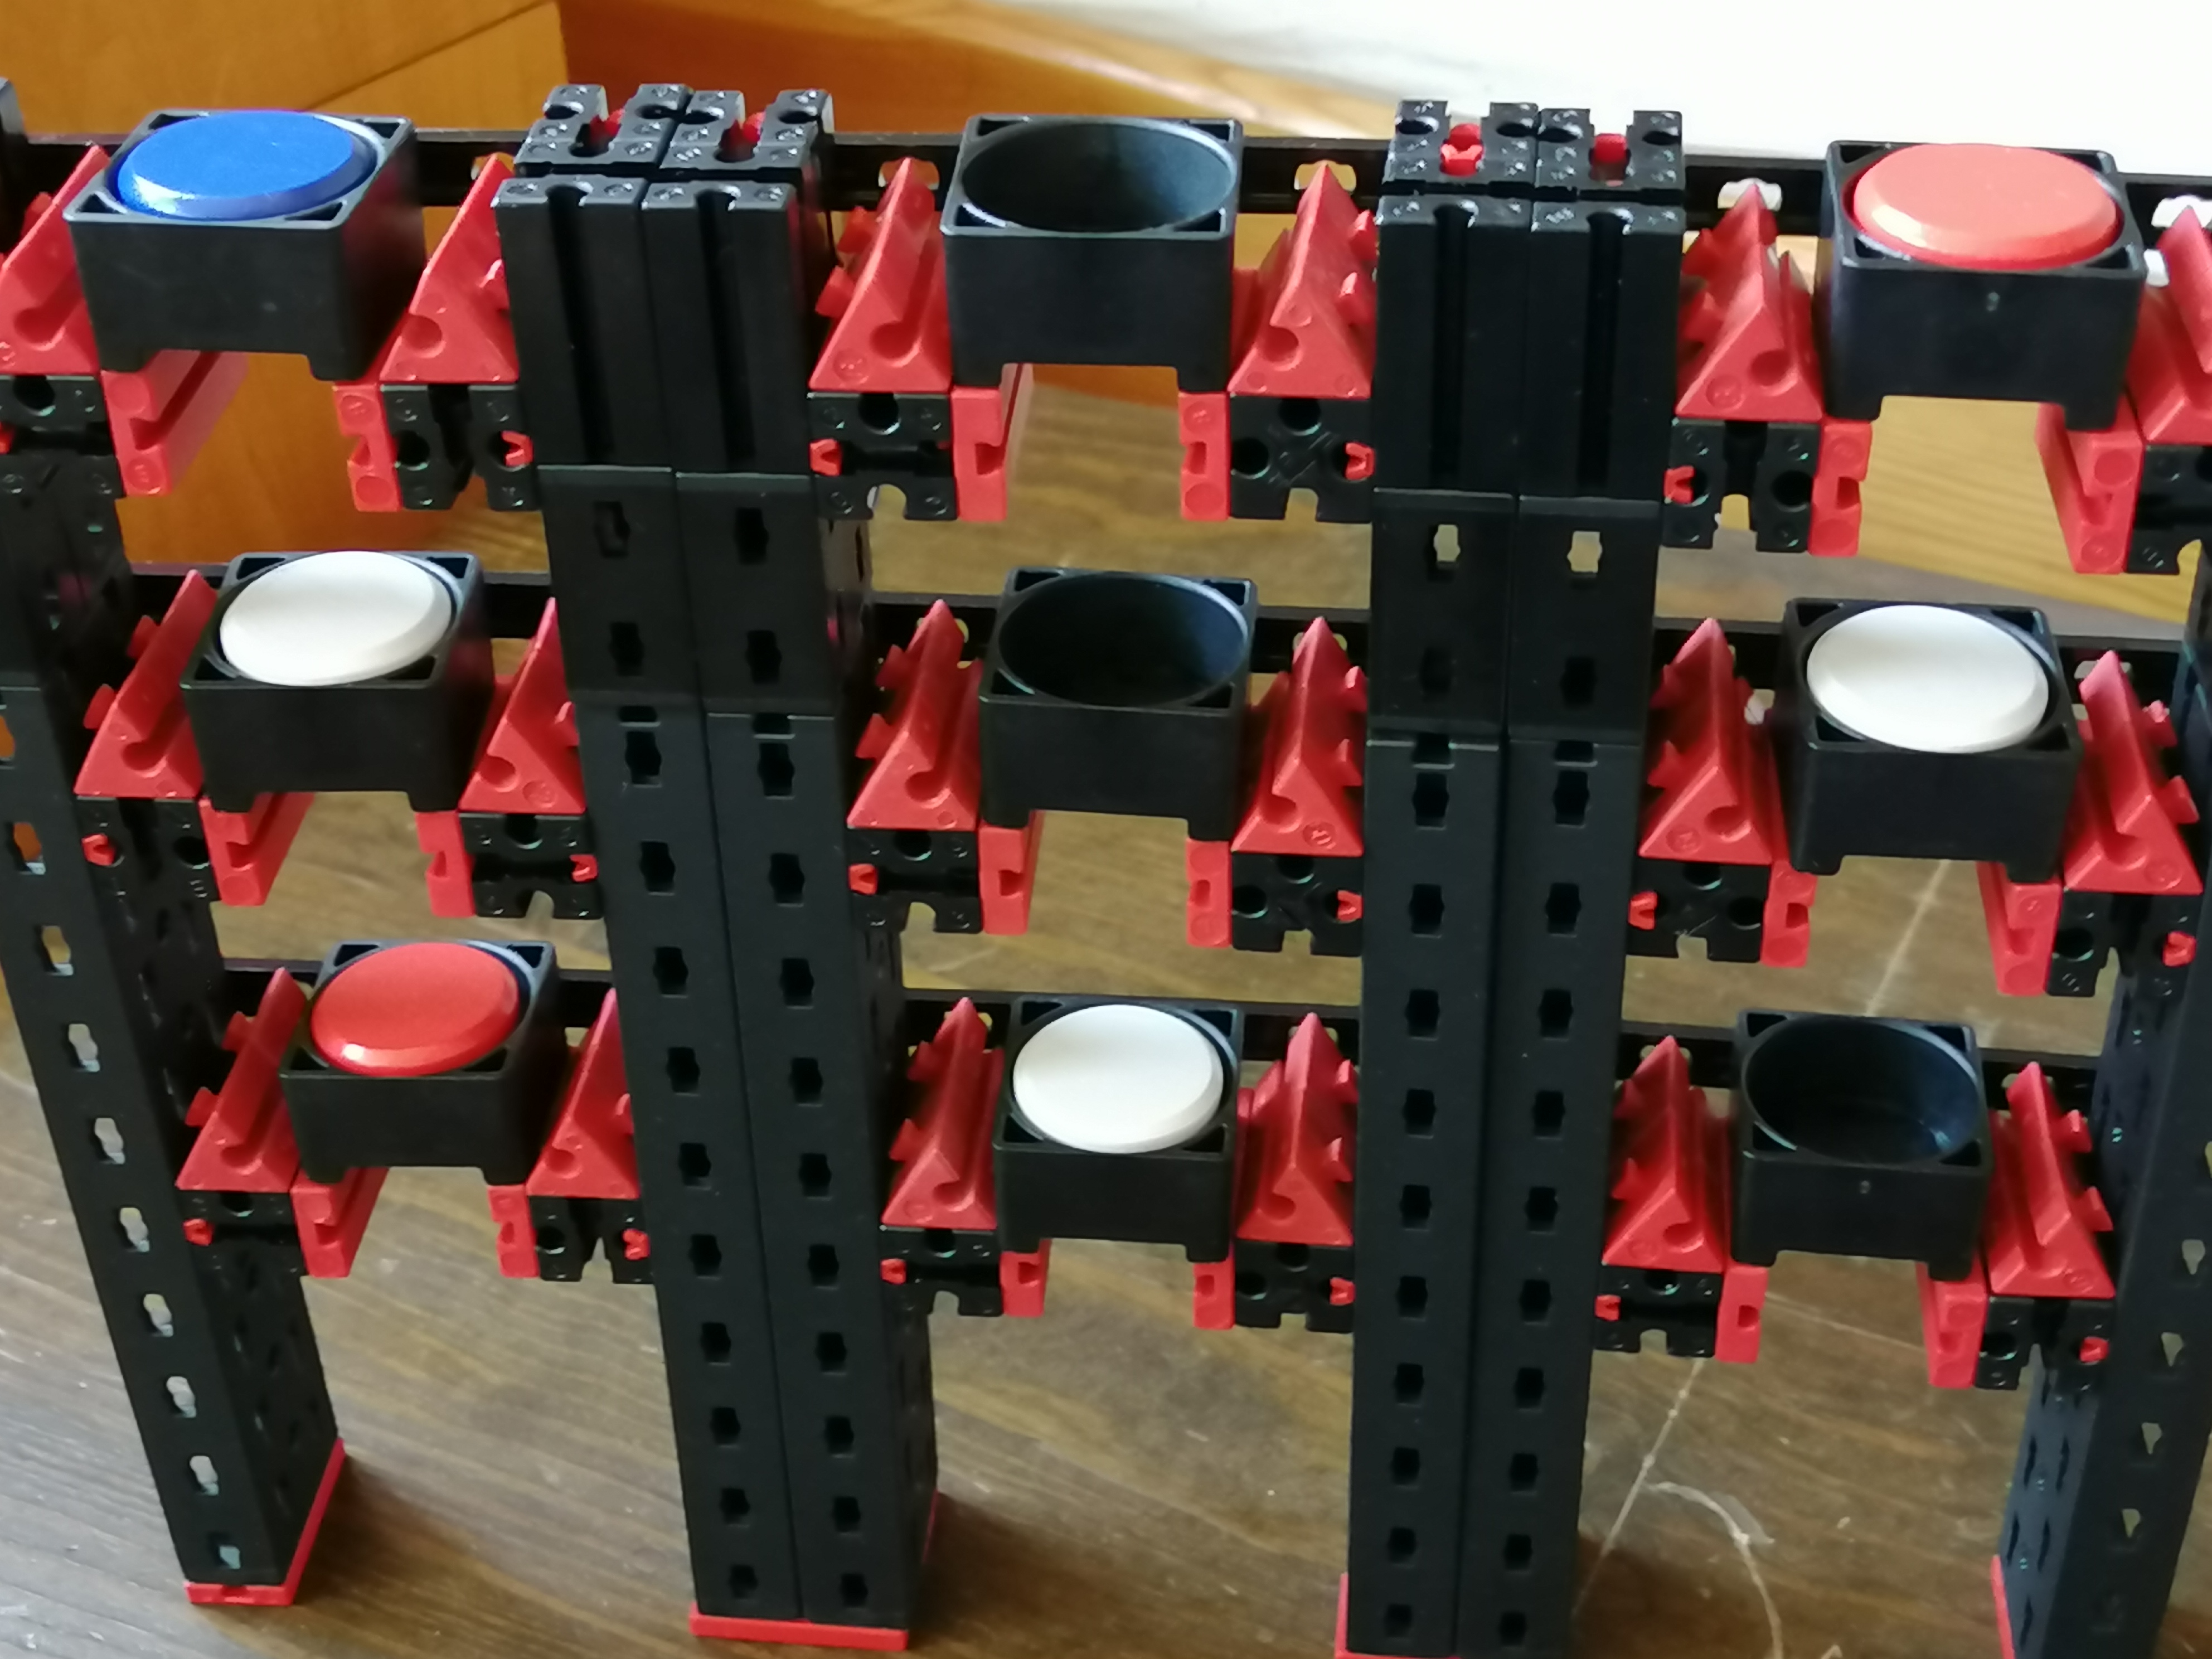Behaelter: (1815, 141, 2120, 422), (1789, 606, 2059, 882), (953, 124, 1224, 389), (989, 580, 1247, 836), (118, 124, 383, 369), (1733, 1002, 1968, 1274), (1003, 997, 1233, 1249), (209, 565, 453, 798), (314, 945, 535, 1176)
WerkStueck: (1810, 606, 2041, 758), (1012, 1006, 1224, 1154), (1858, 145, 2121, 263), (228, 552, 448, 676), (314, 948, 519, 1061), (127, 119, 366, 207)
